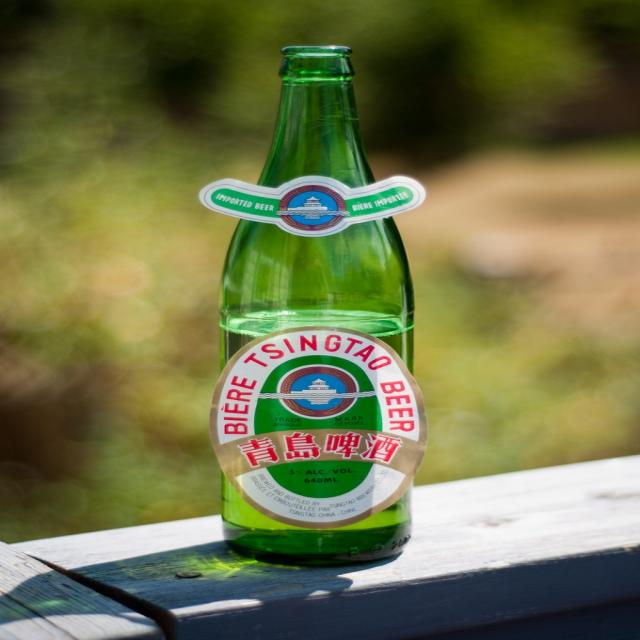tsingtao: (270, 359, 371, 426), (268, 177, 361, 239)
